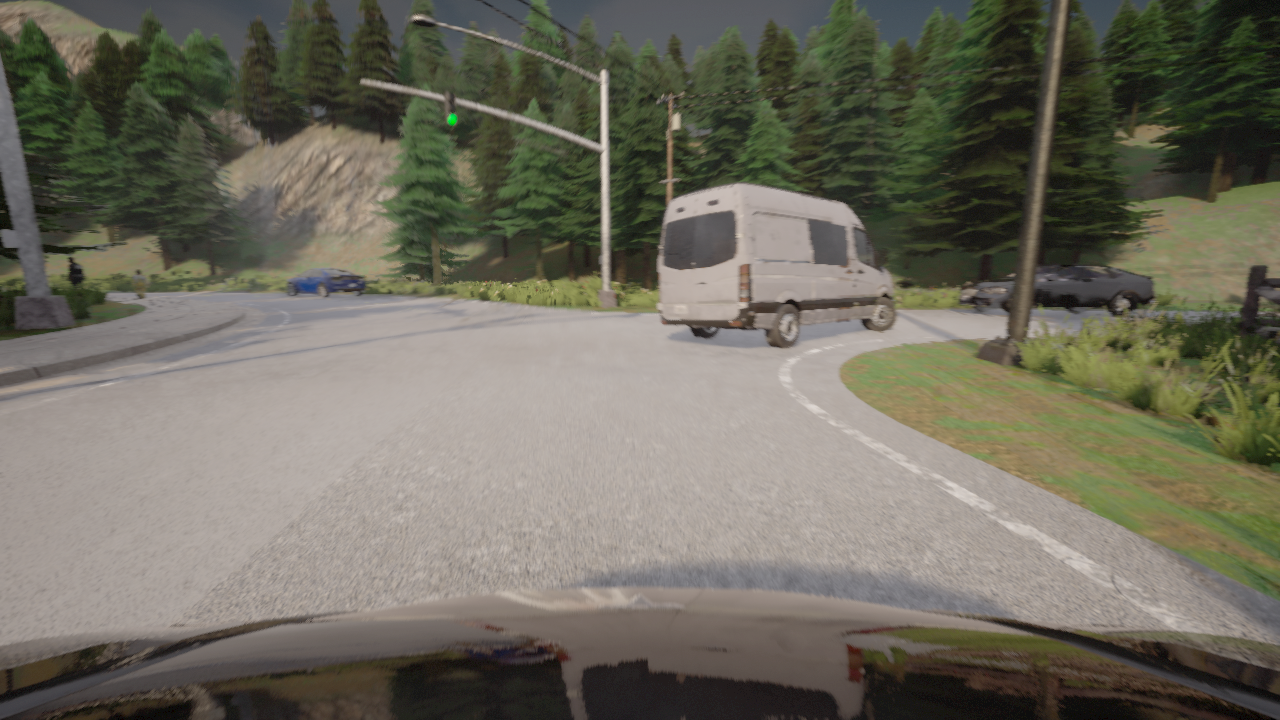cyclist: (0, 588, 1279, 719), (658, 183, 896, 348), (957, 264, 1155, 316), (286, 267, 366, 297)
pedestrian: (68, 257, 84, 289), (133, 270, 147, 298)
